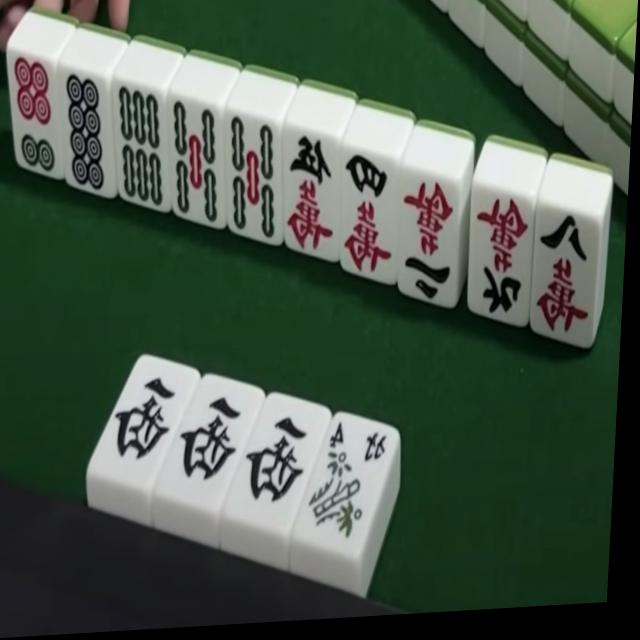2C: (394, 170, 467, 310)
4C: (335, 146, 402, 285)
4F: (292, 411, 399, 562)
5B: (157, 96, 227, 231), (217, 115, 286, 249)
5C: (277, 128, 342, 262)
6B: (107, 78, 177, 216)
6D: (1, 51, 68, 183)
8C: (525, 205, 606, 349)
8D: (50, 66, 119, 200)
9C: (468, 184, 537, 327)
WW: (228, 394, 325, 526), (167, 375, 261, 503), (101, 356, 192, 479)
